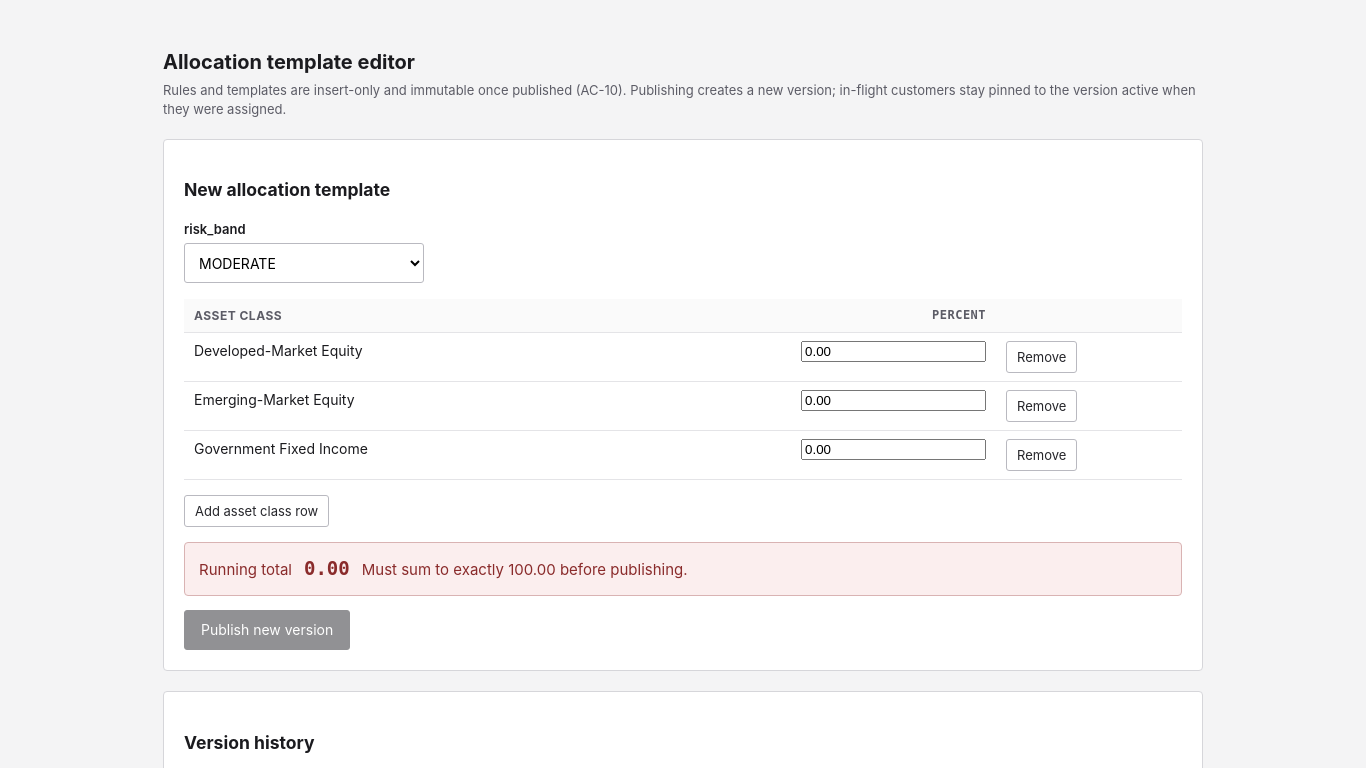
Scenario: TemplateEditor › shows a running total of 90.00 with a warning/error treatment when percentages do not sum to 100
This screenshot has width=1366, height=768.
Replace the text in the field with test id "allocation-percent-0" with "60.00" at (894, 352), box [801,342,986,362]
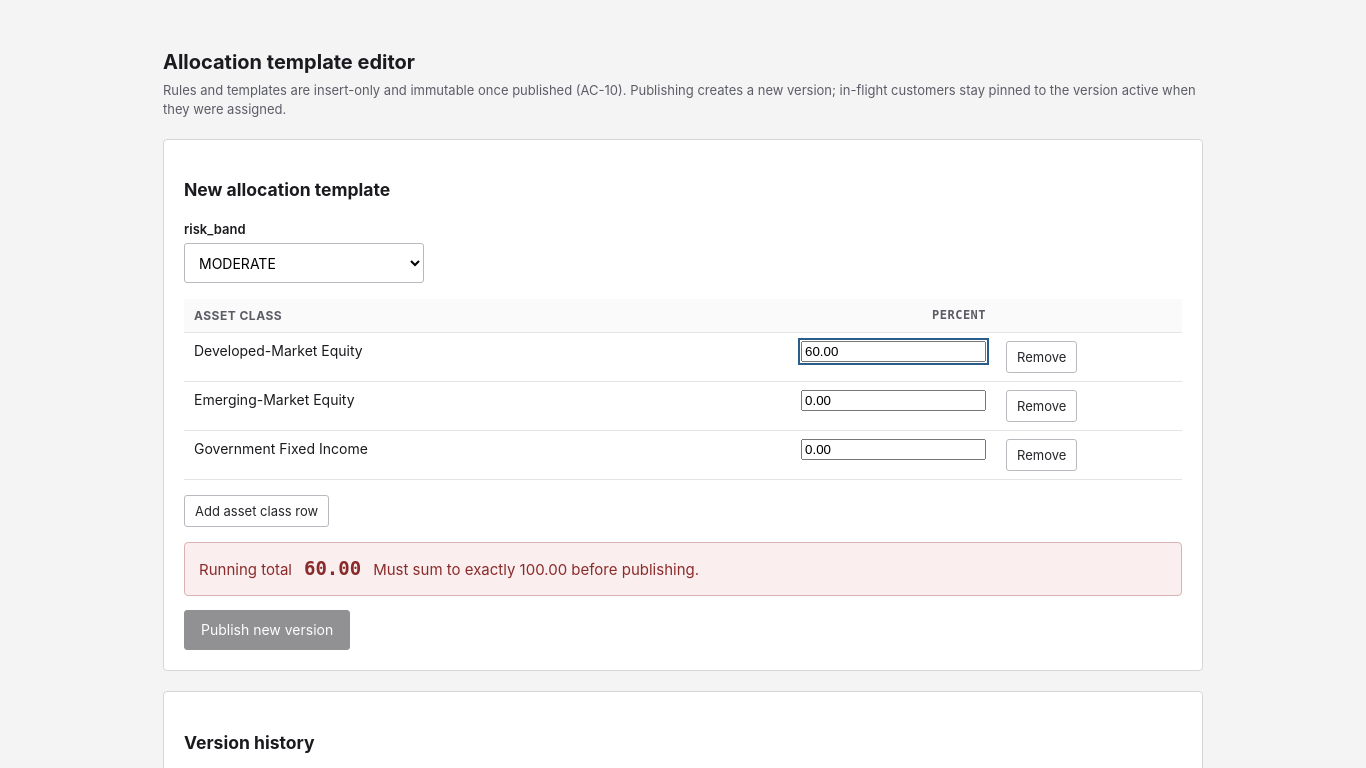
Replace the text in the field with test id "allocation-percent-1" with "30.00" at (894, 401), box [801,390,986,412]
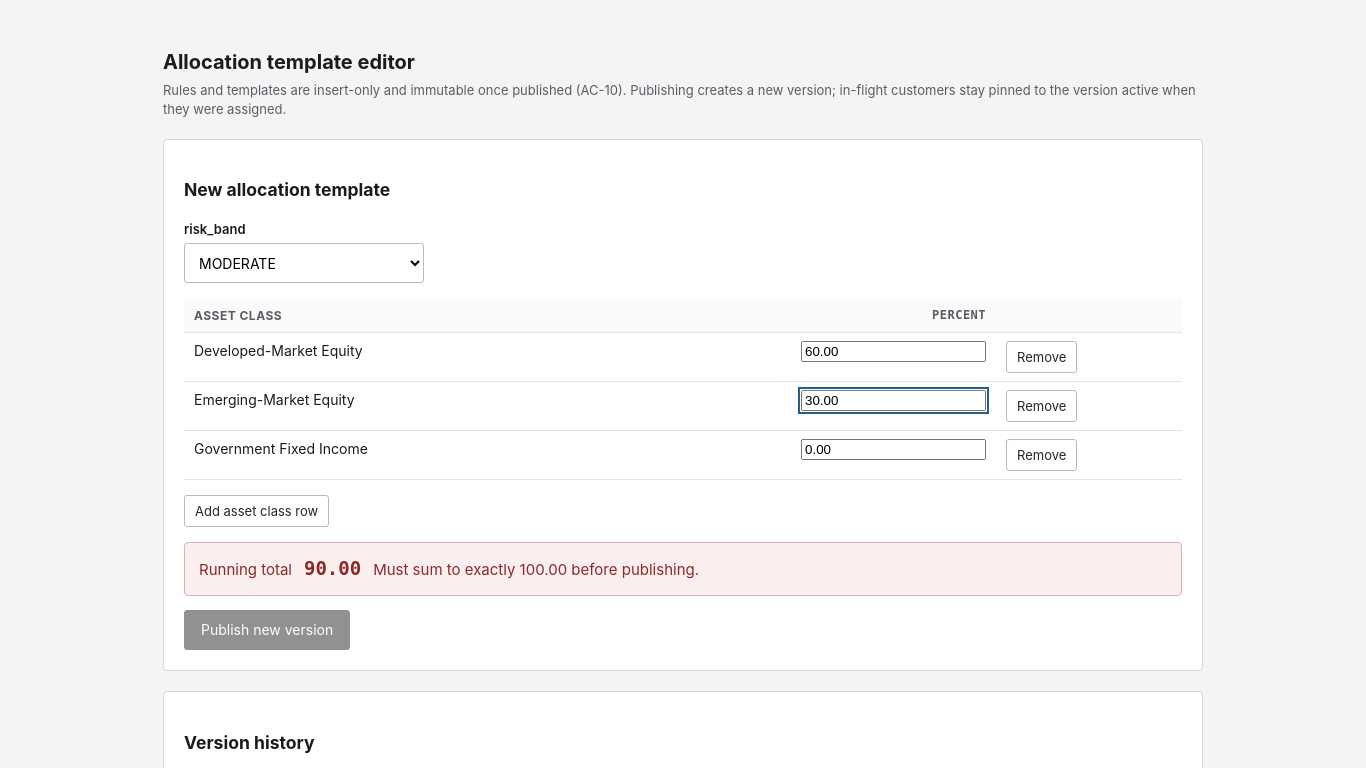
Check: the message with test id "allocation-total" shows "90.00", box [304,558,361,580]
